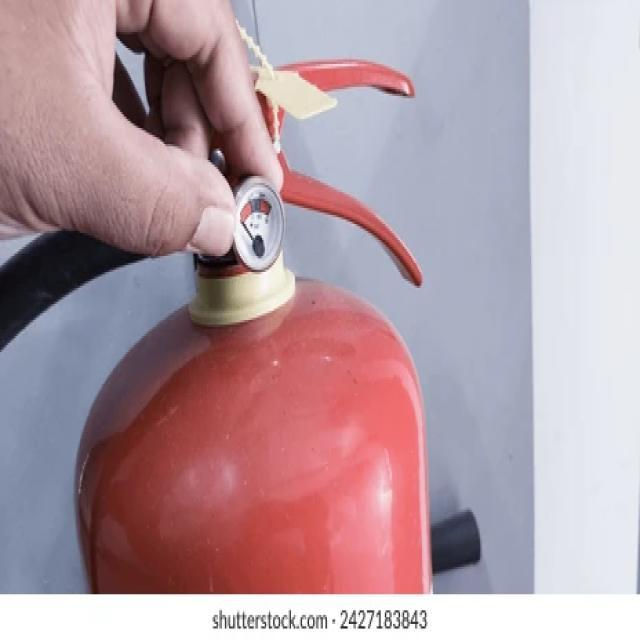pressure gauge: (234, 176, 284, 270)
